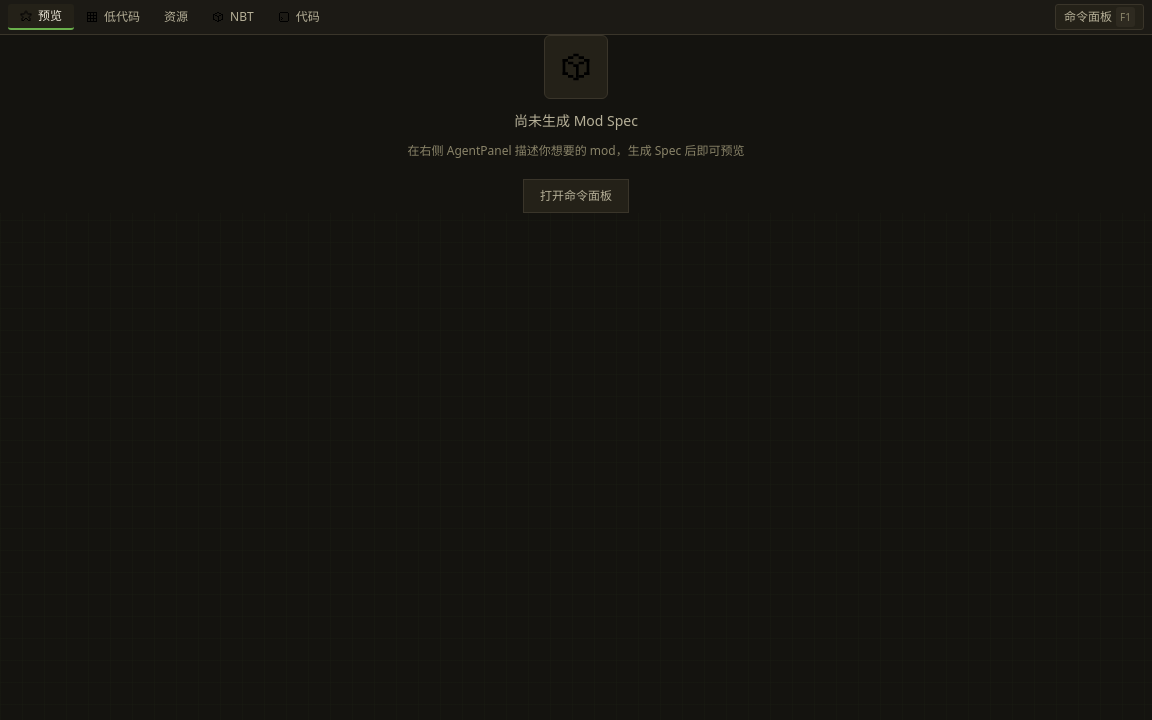
Scenario: MiddlePanel › 点击命令面板入口按钮打开命令面板
Click the button titled "打开命令面板（F1）" at (1100, 17), box 1055,4 -> 1144,30
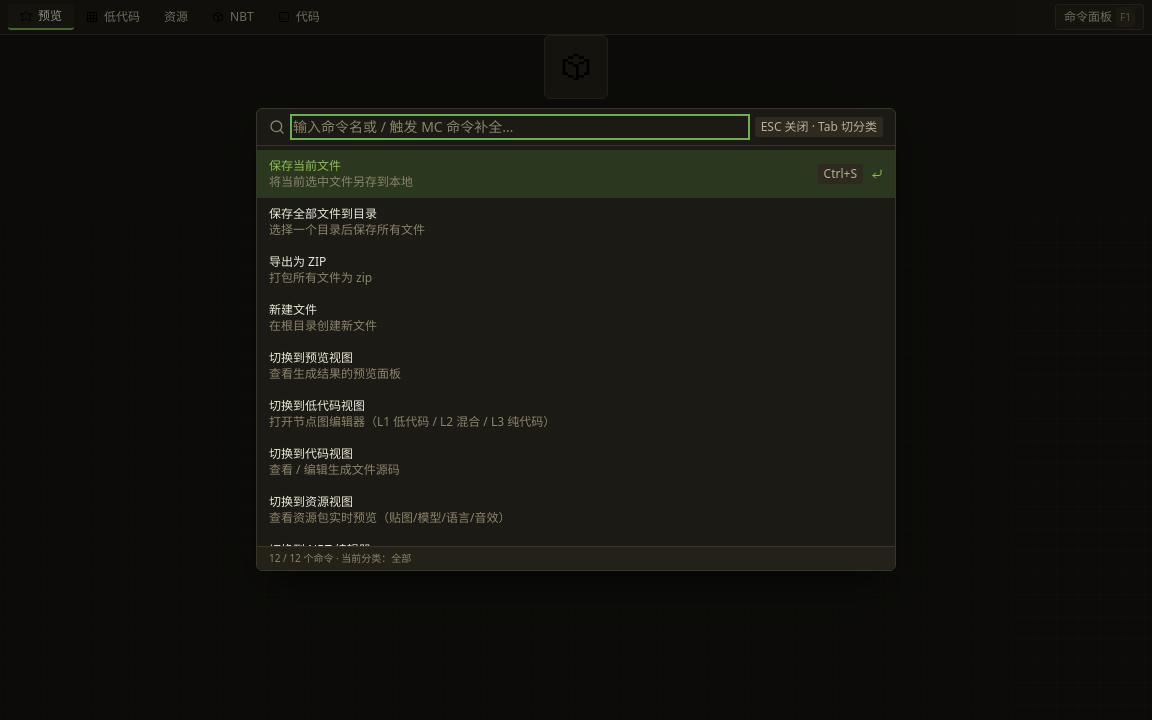
Check: the text "保存当前文件" is shown, box 269,157 -> 341,174
